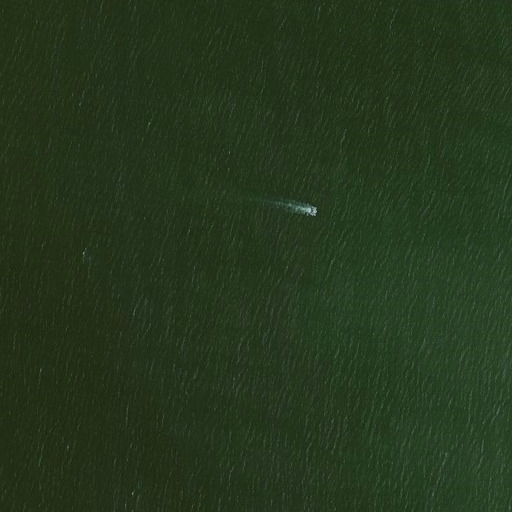ship: (298, 204, 319, 217)
